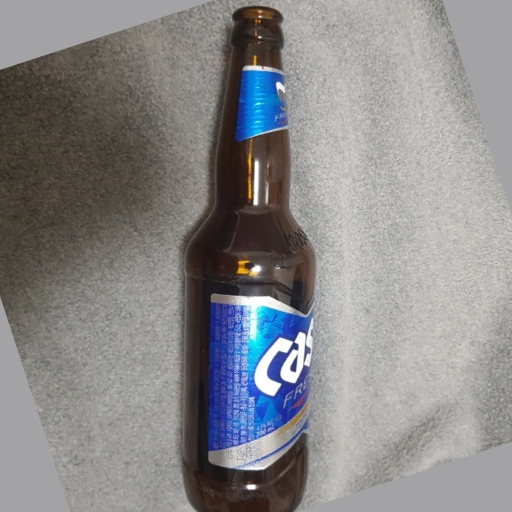Glass_1: (175, 10, 323, 512)
